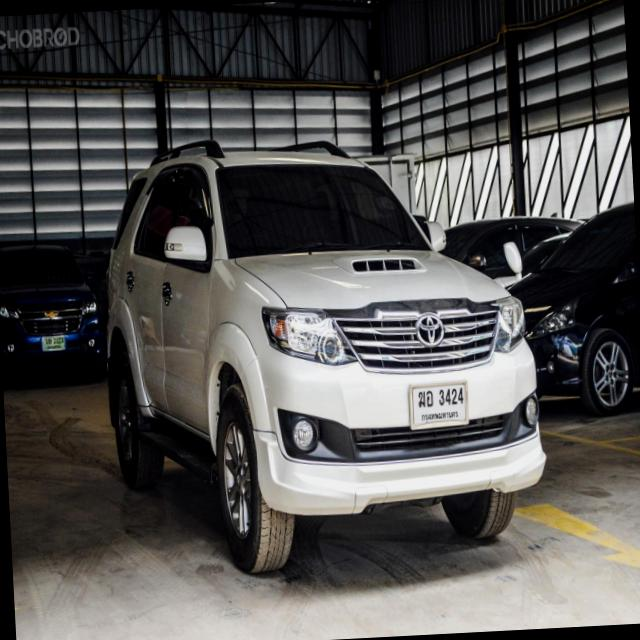license_plate: (407, 380, 472, 430)
